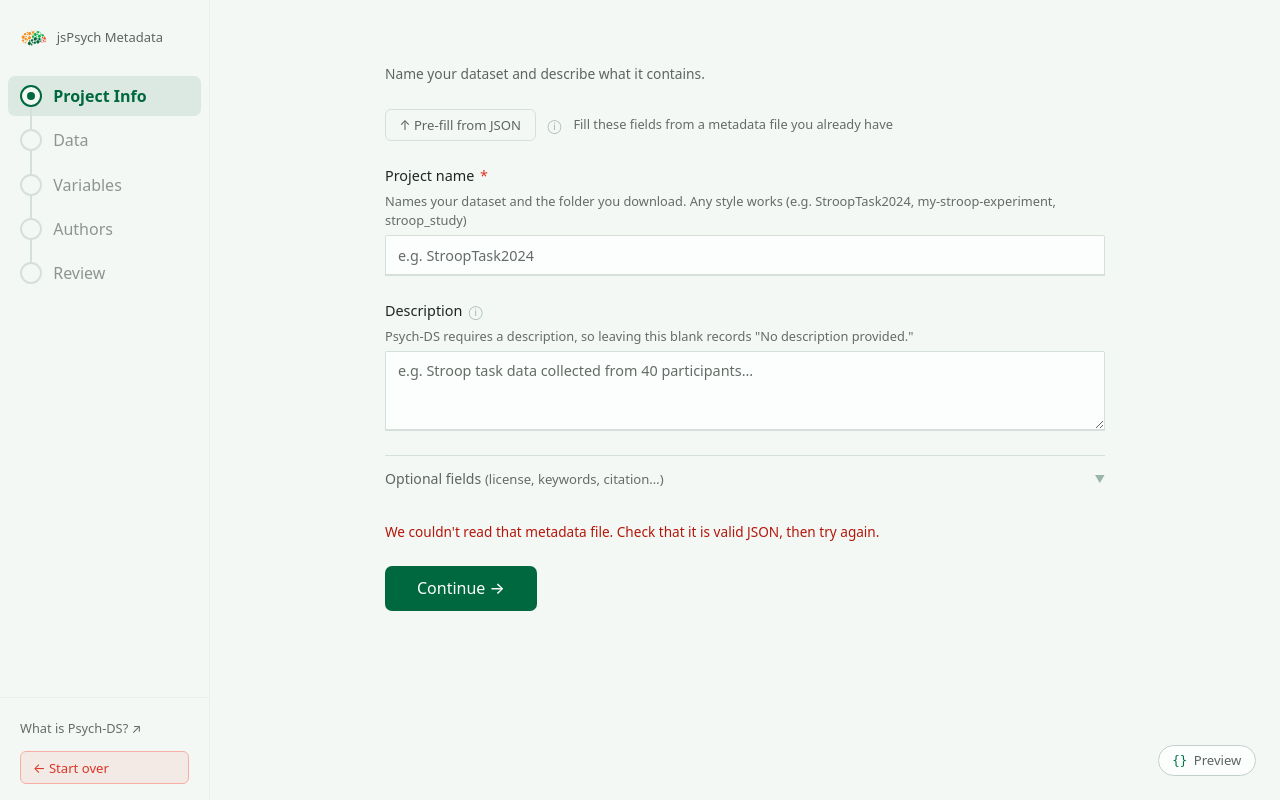
Test: AppShell + real ProjectInfo (existing project) › a failed metadata parse does not pre-complete Data or claim variables were loaded
The width and height of the screenshot is (1280, 800).
Expected: the text "We couldn.t read that metadata file" is shown, [385,522,879,541]
Type "Manual" into the field labelled "Project name *" at point(745, 256), box [385,235,1105,276]
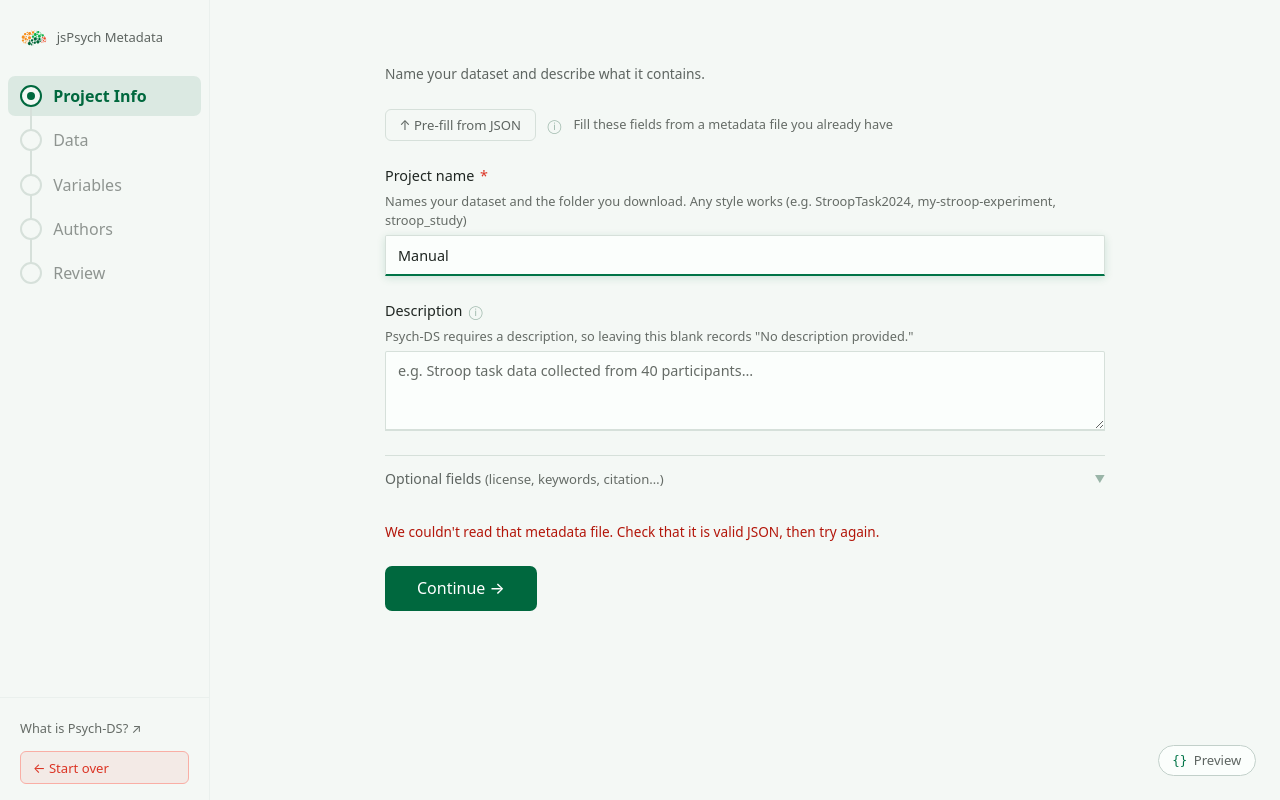
Click the button "Continue →" at point(461, 588), box [385,566,537,611]
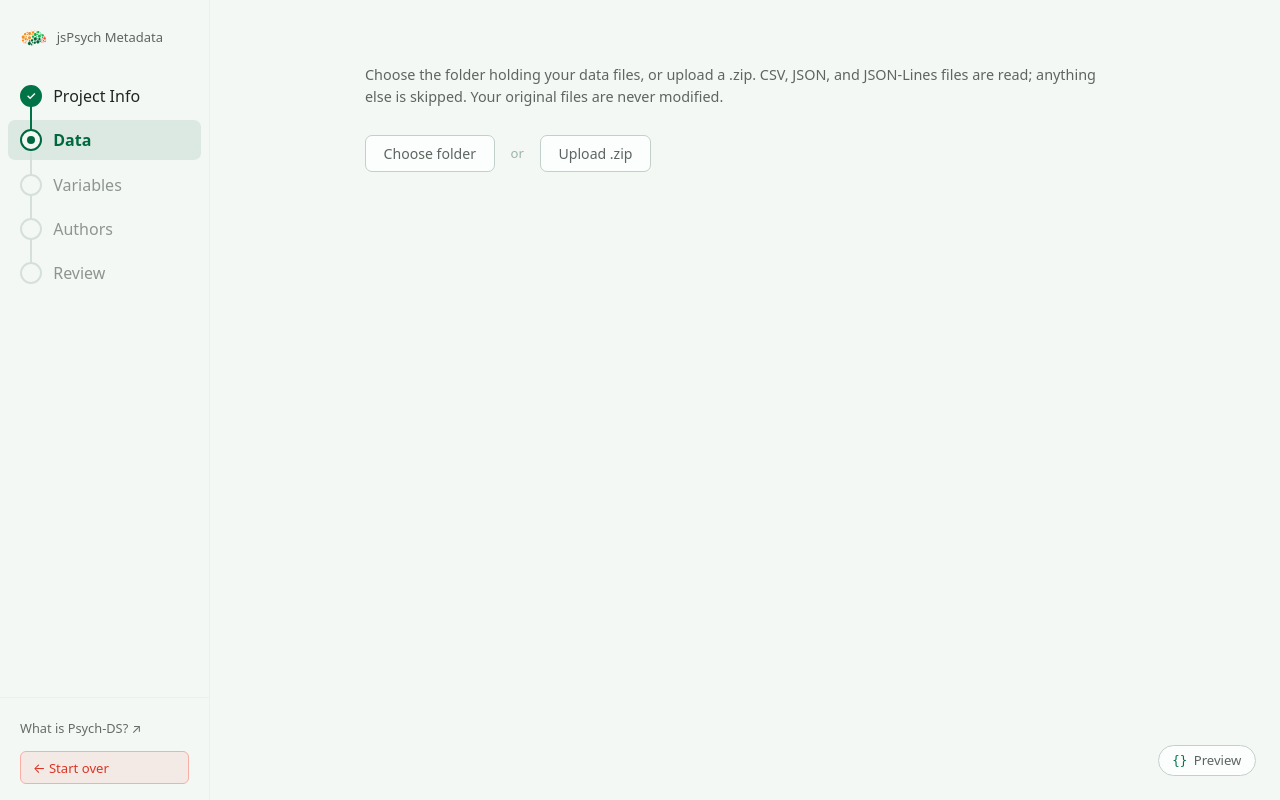
Expected: the text "Choose the folder holding your data files" is shown, [365,65,1096,106]
